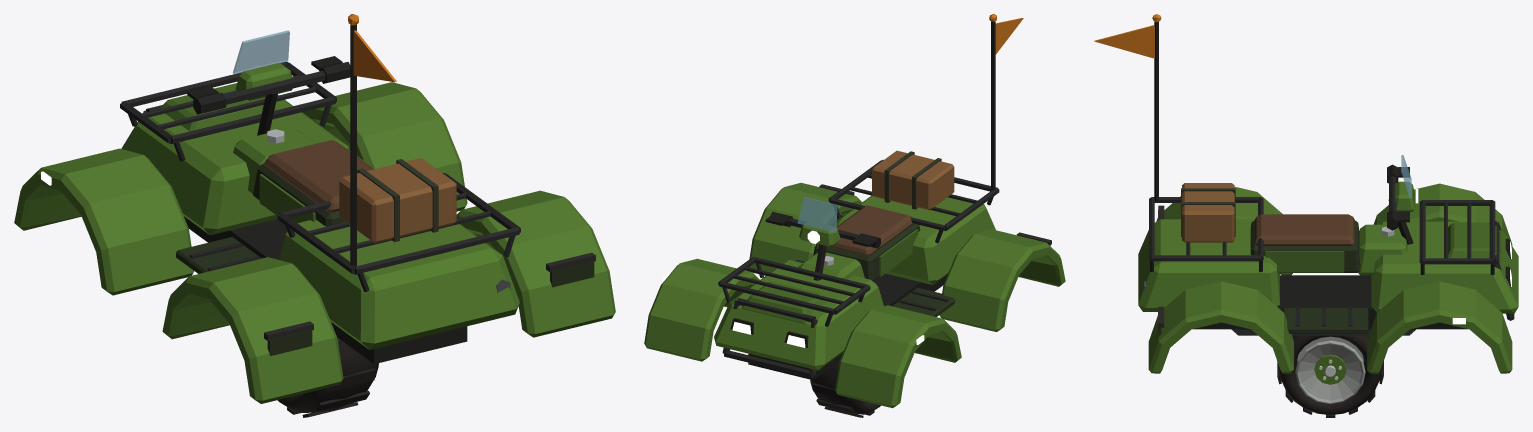
File: ScoutATV.glb
3 views of the same model, side by side, from view 1: azimuth 30°, elevation 25°; view 2: azimuth 150°, elevation 25°; view 3: azimuth 270°, elevation 25° (orthographic). The views are drawn at different scales.
Visible parts, largest first — view 1: Body, Wheel, Glass; view 2: Body, Wheel, Glass, Lights; view 3: Body, Wheel.
Part boxes in pixels (<box>): Body: <box>14,14,615,403</box>; Wheel: <box>277,342,378,417</box>; Glass: <box>233,30,289,74</box>; Body: <box>644,14,1065,408</box>; Wheel: <box>810,362,880,417</box>; Glass: <box>797,197,837,232</box>; Lights: <box>663,230,924,347</box>; Body: <box>1094,14,1518,373</box>; Wheel: <box>1277,335,1383,417</box>.
Size of the model in its own units: 9.4 by 12.29 by 12.89.
